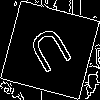U: (25, 25, 80, 83)
